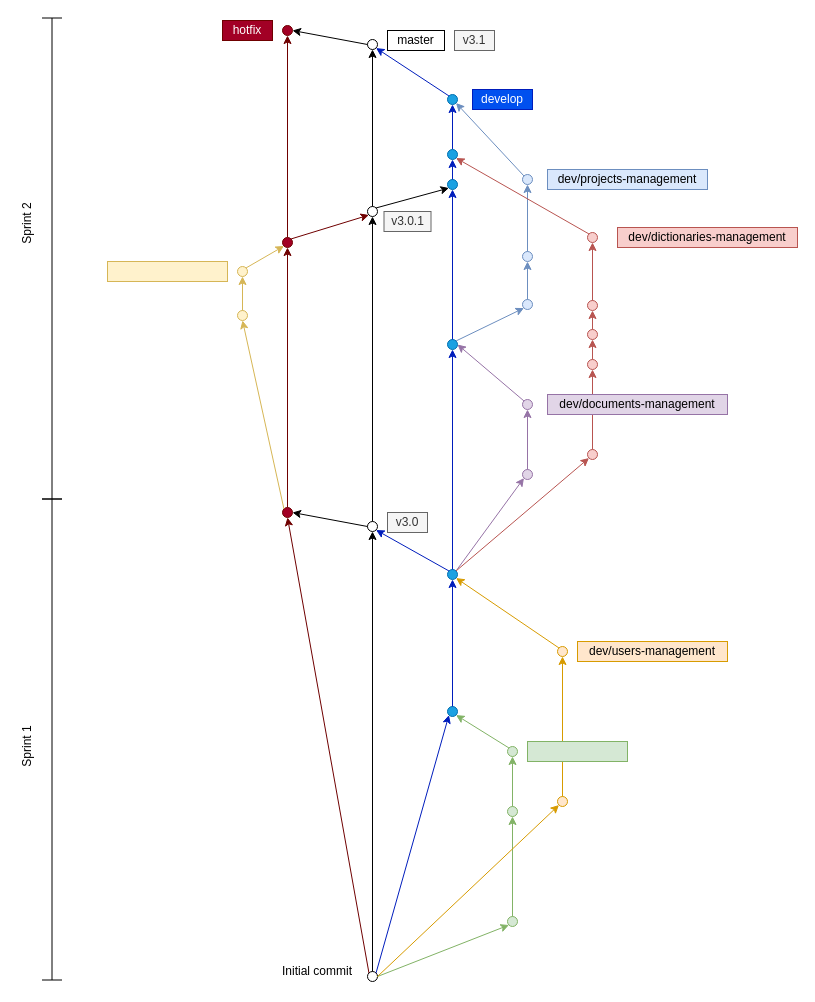
Image size: 815x1002. Some labels were removed from this diagram. Each missing label, with the centre of its shape:
dev/home-page: point (577, 751)
fix/password-reset: point (167, 271)
